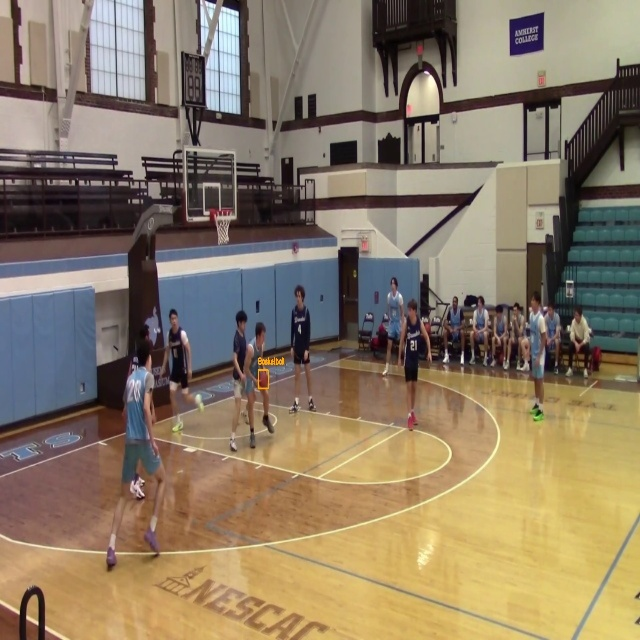Basketball: (258, 370, 268, 389)
